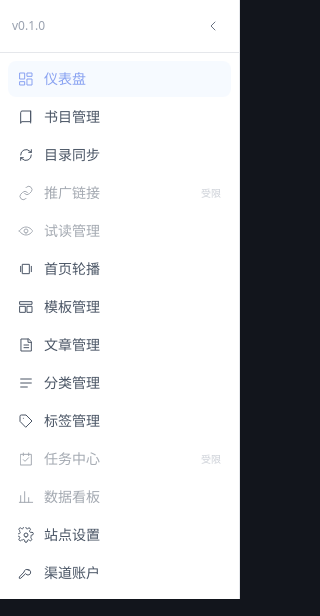
Scenario: 侧栏 · 折叠与展开 › 再点一次回到展开态，是可逆开关而不是单向折叠
The image size is (320, 616).
Click the button at point(213, 26), box top-left (199, 12), bottom-right (227, 40)
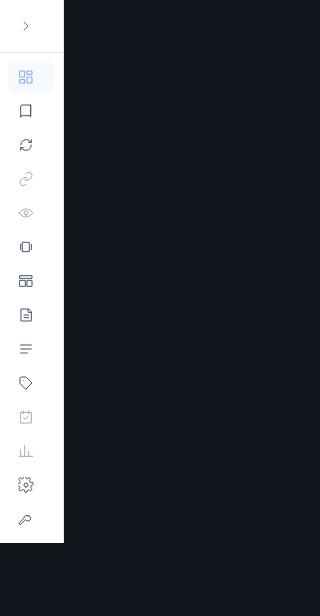
Click the button at point(26, 26), box top-left (12, 12), bottom-right (40, 40)
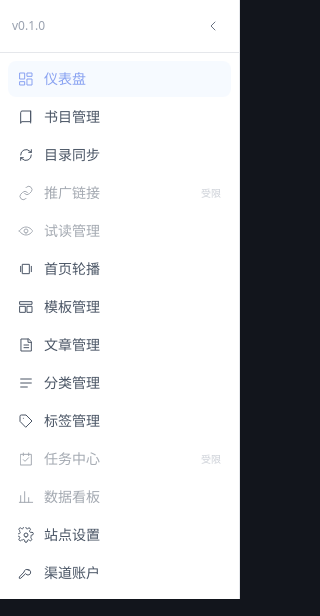
Check: the button is expanded, box top-left (199, 12), bottom-right (227, 40)
